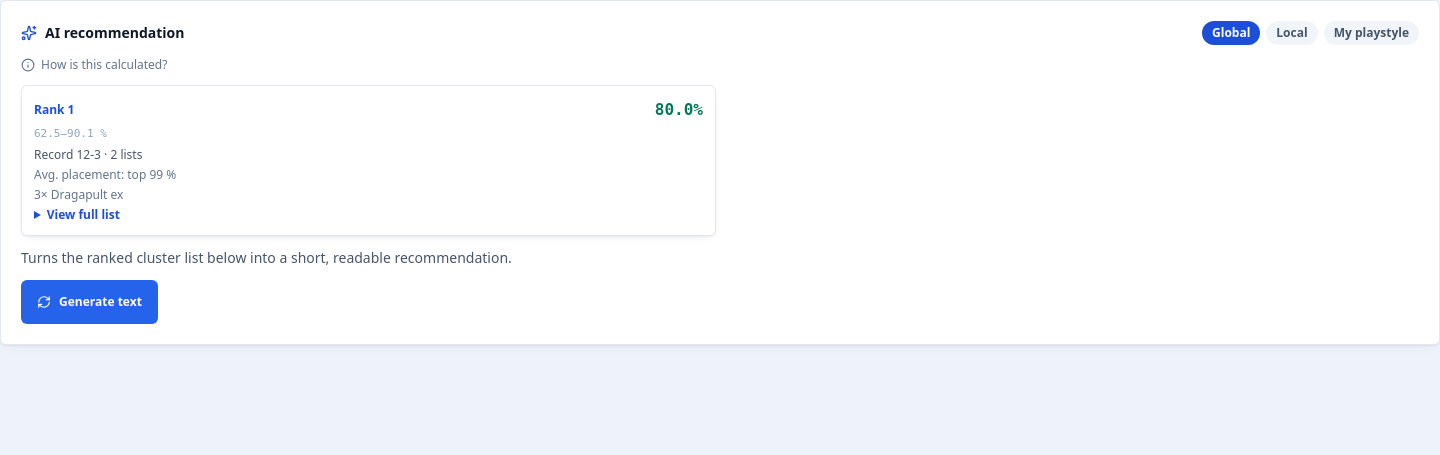
Test: ArchetypeRecommendationPanel — personal mode (Spec 10 Slice E UI) › shows an insufficient-data hint when archetypeStats has no matching entry
This screenshot has width=1440, height=455.
Click the button with test id "archetype-recommendation-scope-personal" at (1371, 33), box x1=1324 y1=21 x2=1419 y2=45
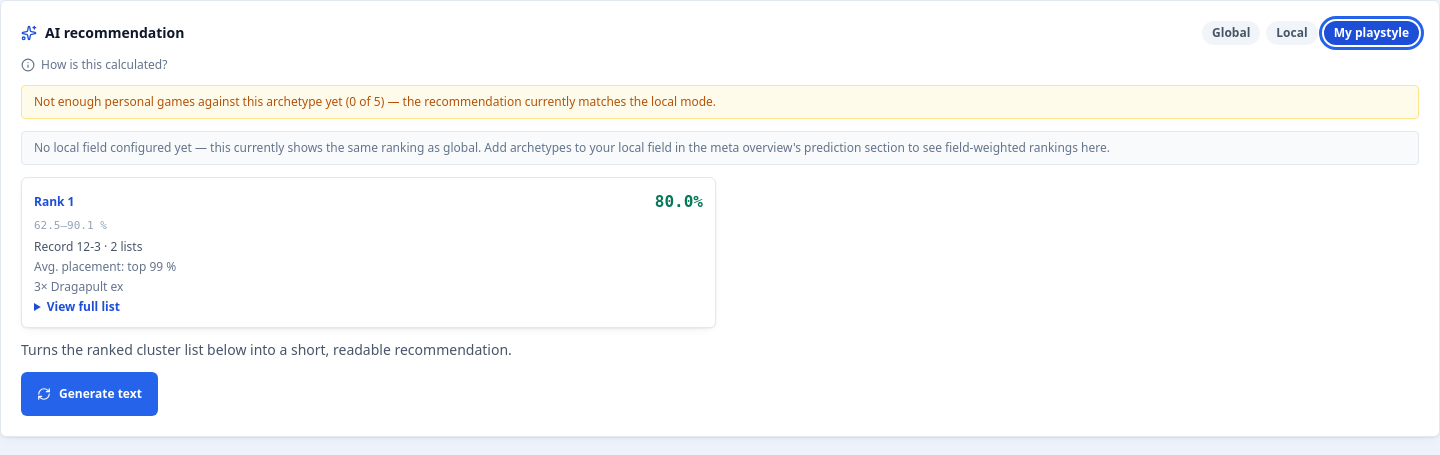
Expected: the text with test id "archetype-recommendation-personal-insufficient-data" is shown, x1=21 y1=85 x2=1419 y2=119
